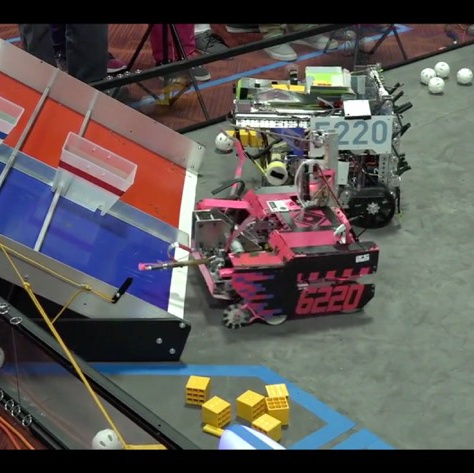robot: (133, 165, 383, 336), (229, 58, 417, 228)
